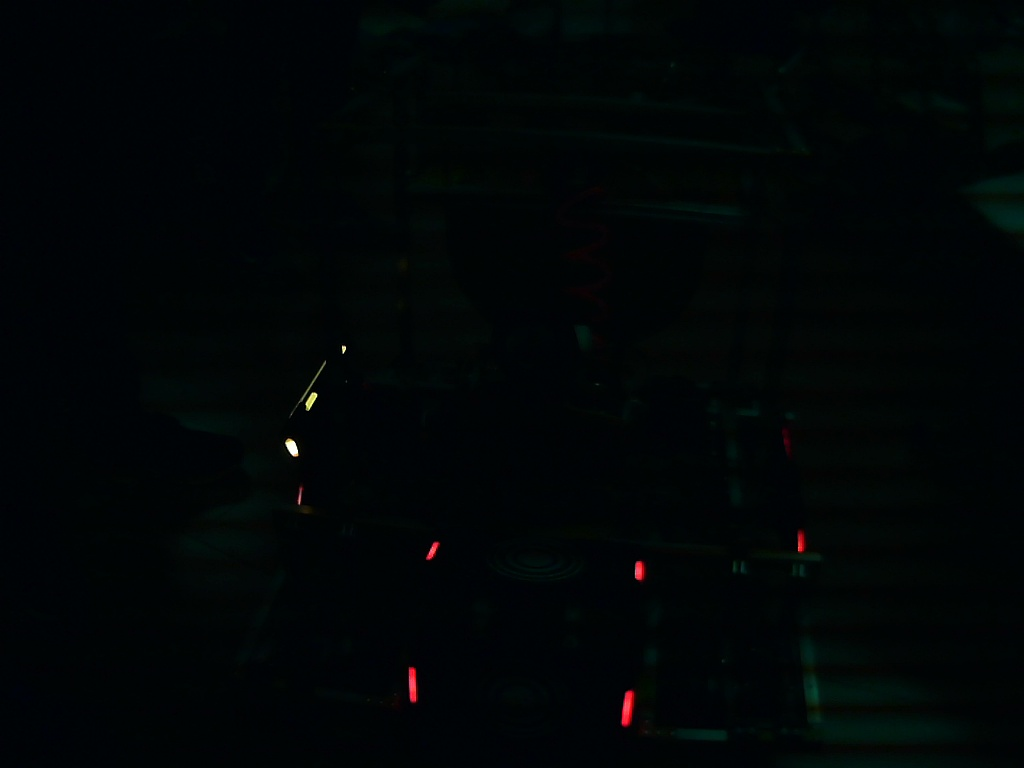lamp: (620, 687, 636, 731), (404, 665, 422, 704)
